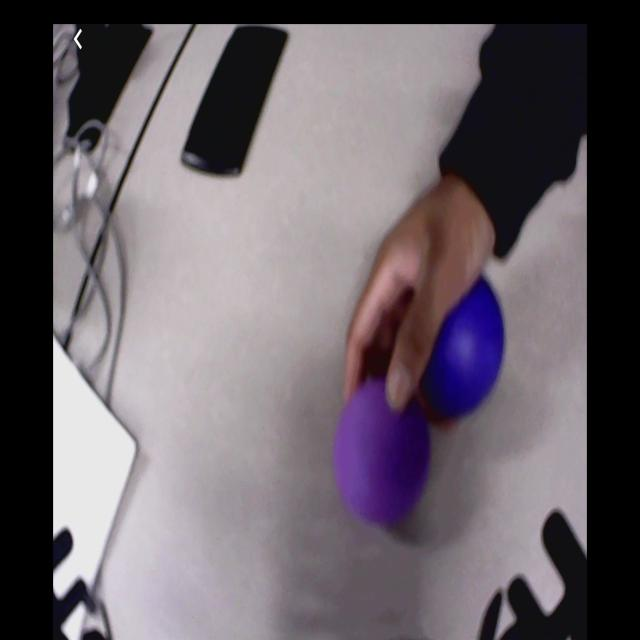ball: (336, 382, 428, 529), (419, 275, 506, 414)
